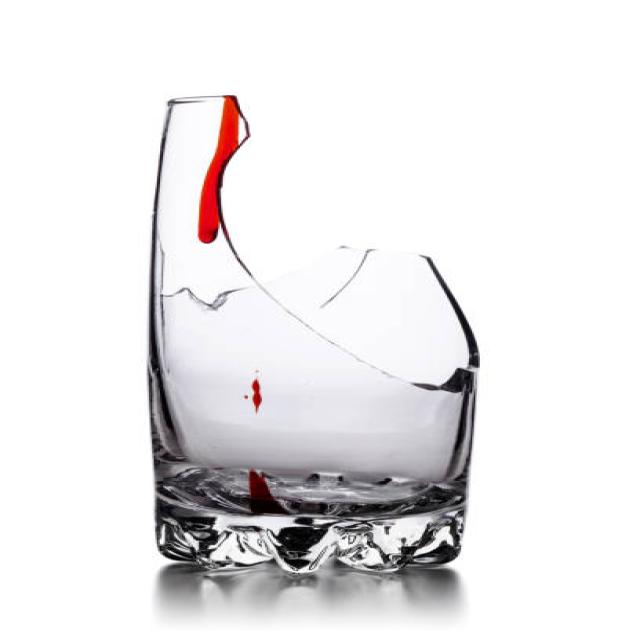Dry Waste: (150, 90, 480, 572)
